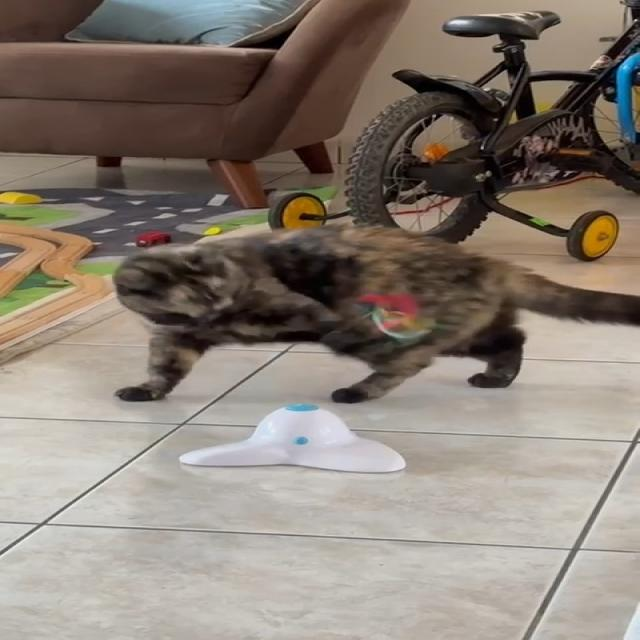authorized: (111, 221, 638, 404)
